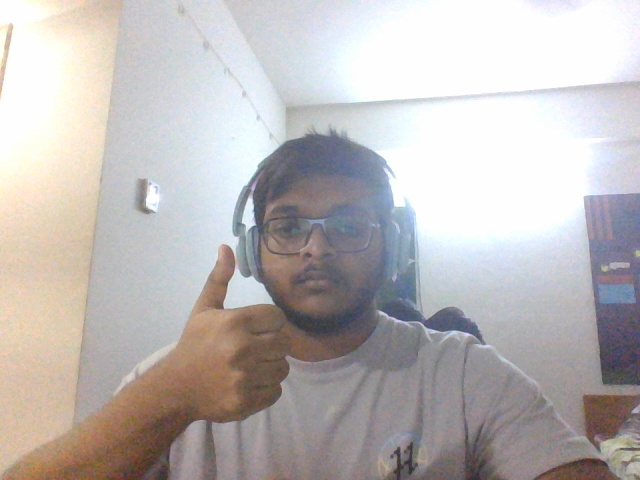ThumbsUp: (174, 244, 292, 421)
